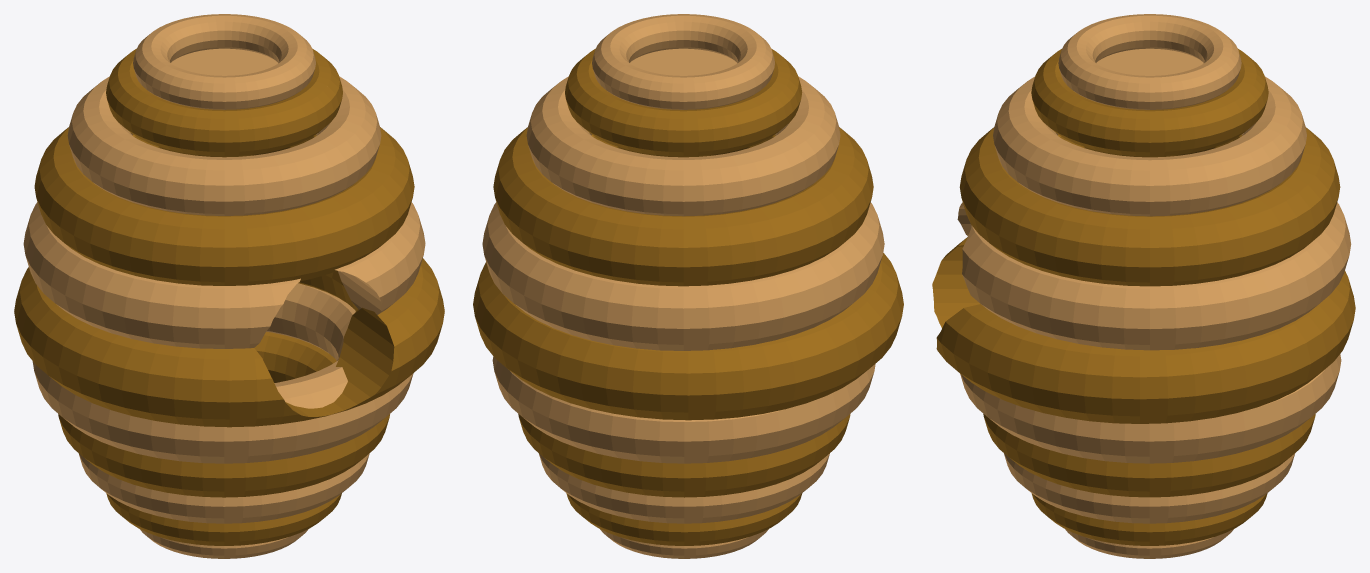
The model's file is bijenkorf.fbx.
3 renders of one model, left to right at view 1: azimuth 30°, elevation 25°; view 2: azimuth 150°, elevation 25°; view 3: azimuth 270°, elevation 25°, orthographic.
Parts seen in each view (by area): view 1: Torus.001; view 2: Torus.001; view 3: Torus.001.
Part boxes in pixels (left/top/right/bottom): Torus.001: left=14, top=14, right=444, bottom=558; Torus.001: left=473, top=14, right=903, bottom=558; Torus.001: left=932, top=14, right=1355, bottom=558.
Bounding box in the file's own units: 588 × 723 × 578.
